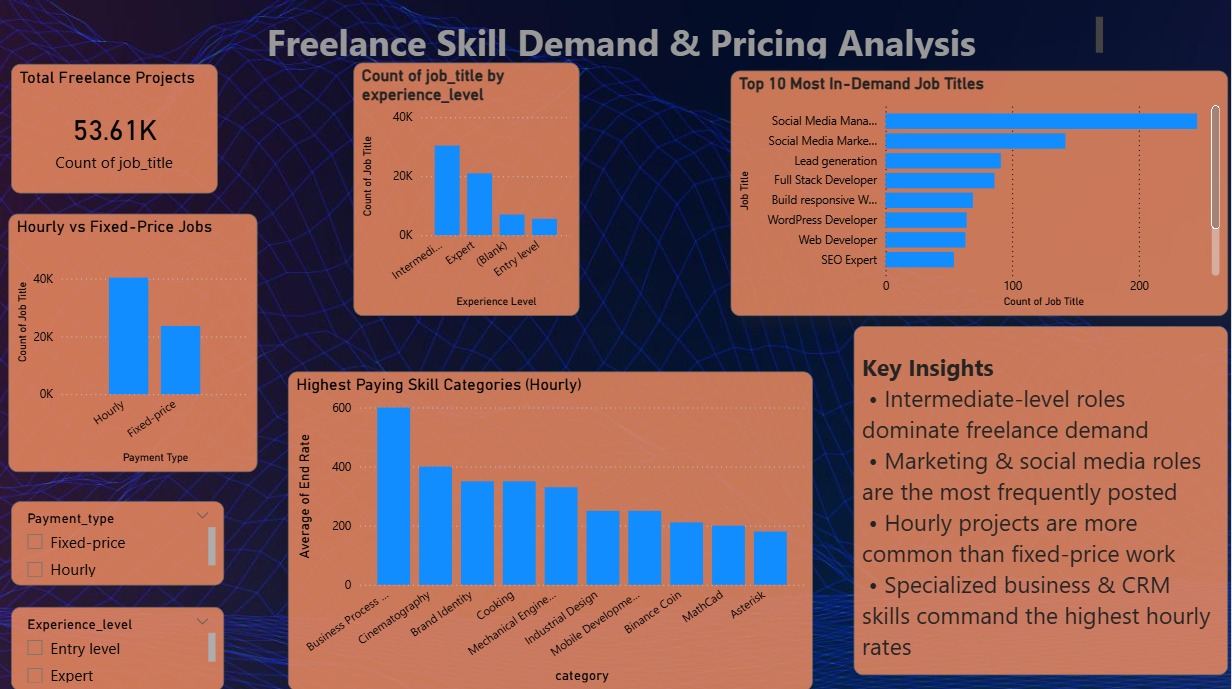

The dashboard page shown, as its layout file describes it:
{"tool":"powerbi","page":{"name":"Page 1","canvas":[1280,720],"ordinal":0},"visuals":[{"type":"card","title":"Total Freelance Projects","fields":{"Values":["Count(freelance_skill_clean.job_title)"]},"box":[12.1,68.8,214.5,134.9],"z":0},{"type":"clusteredColumnChart","fields":{"Category":["freelance_skill_clean.experience_level"],"Y":["CountNonNull(freelance_skill_clean.job_title)"]},"box":[368.3,68.3,235,263.3],"z":1000},{"type":"clusteredColumnChart","title":"Hourly vs Fixed-Price Jobs","fields":{"Category":["freelance_skill_clean.payment_type"],"Y":["CountNonNull(freelance_skill_clean.job_title)"]},"box":[9.4,225.3,259,268.5],"z":2000},{"type":"clusteredBarChart","title":"Top 10 Most In-Demand Job Titles","fields":{"Category":["freelance_skill_clean.job_title"],"Y":["CountNonNull(freelance_skill_clean.job_title)"]},"box":[760,76.7,516.7,255],"z":3000},{"type":"slicer","fields":{"Values":["freelance_skill_clean.experience_level"]},"box":[12.1,632.8,221.3,87.7],"z":4000},{"type":"clusteredColumnChart","title":"Highest Paying Skill Categories (Hourly)","fields":{"Category":["freelance_skill_clean.category"],"Y":["Avg(freelance_skill_clean.end_rate)"]},"box":[299.5,388.6,545.1,331.9],"z":5000},{"type":"slicer","fields":{"Values":["freelance_skill_clean.payment_type"]},"box":[12.1,523.5,221.3,87.7],"z":6000},{"type":"textbox","box":[201.7,15,950,53.3],"z":7000},{"type":"textbox","box":[887.8,341.4,388.6,362.9],"z":8000}]}

Visuals, with their boxes in screenshot pixels (x1, y1, x2, y2), scaled from the page's 1280x720 canvas onto the 1232x689 screenshot:
"Total Freelance Projects" card: locate(12, 66, 218, 195)
clusteredColumnChart - freelance_skill_clean.experience_level x CountNonNull(freelance_skill_clean.job_title): locate(354, 65, 581, 317)
"Hourly vs Fixed-Price Jobs" clusteredColumnChart: locate(9, 216, 258, 473)
"Top 10 Most In-Demand Job Titles" clusteredBarChart: locate(732, 73, 1229, 317)
slicer - freelance_skill_clean.experience_level: locate(12, 606, 225, 688)
"Highest Paying Skill Categories (Hourly)" clusteredColumnChart: locate(288, 372, 813, 688)
slicer - freelance_skill_clean.payment_type: locate(12, 501, 225, 585)
textbox: locate(194, 14, 1109, 65)
textbox: locate(855, 327, 1229, 674)
